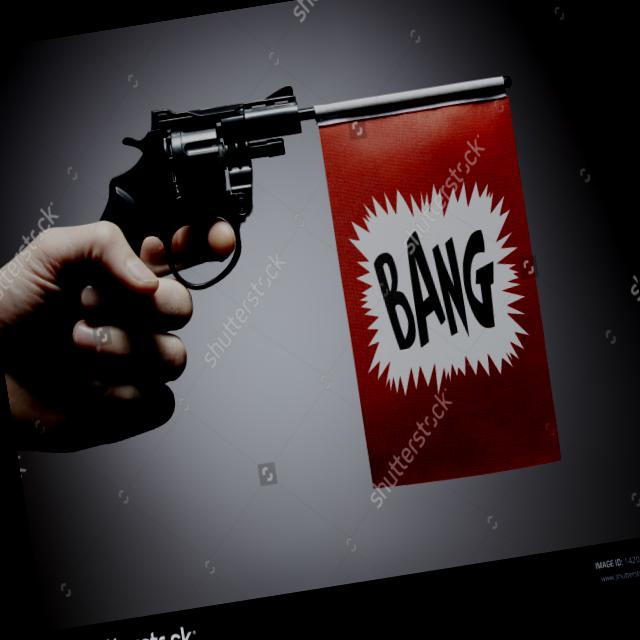handgun: (58, 83, 326, 325)
